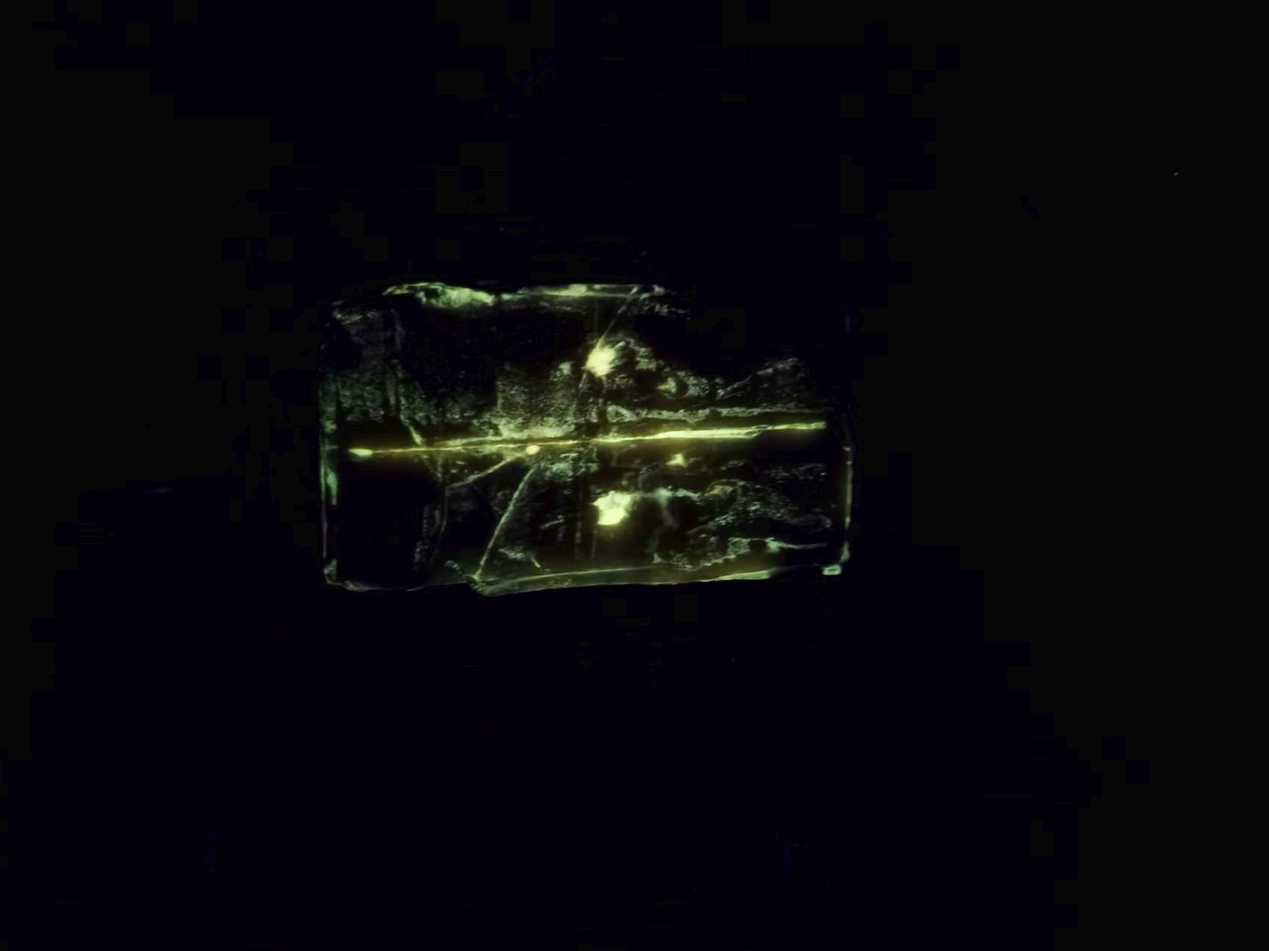Crater: (559, 474, 667, 543), (557, 327, 653, 395)
Fissure: (310, 405, 861, 477)
